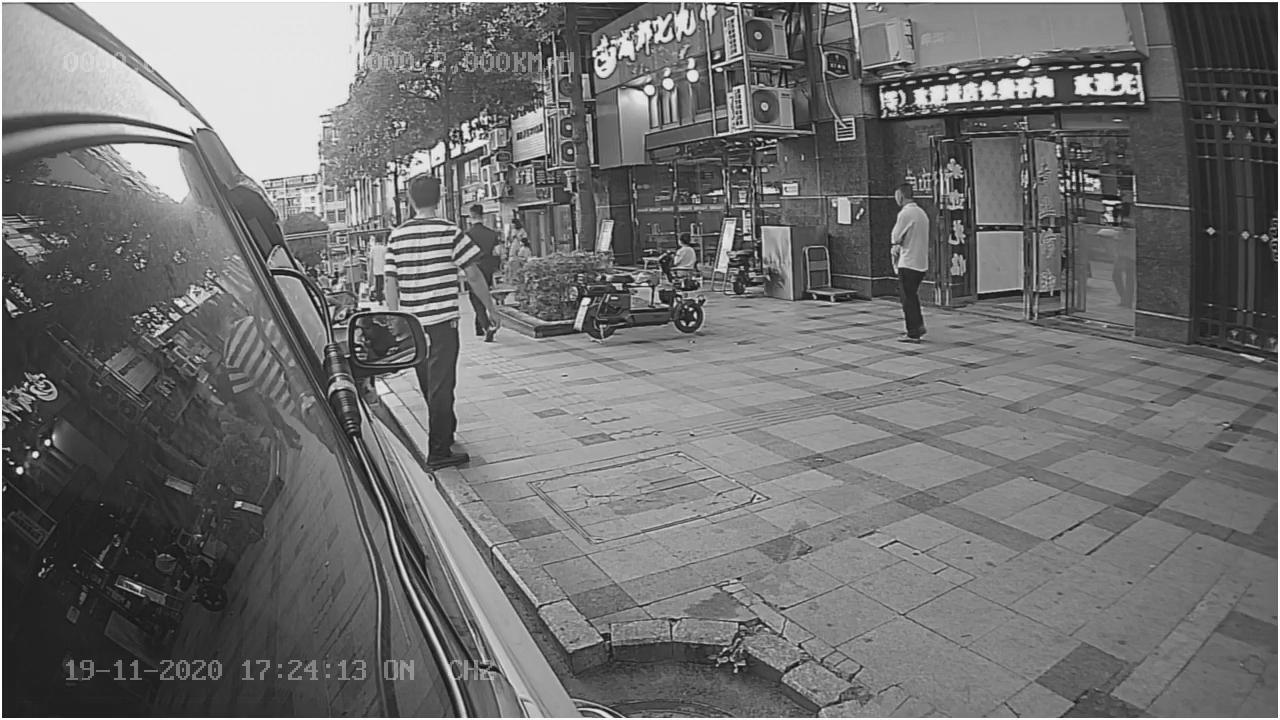person: (388, 171, 476, 471), (875, 180, 938, 349)
